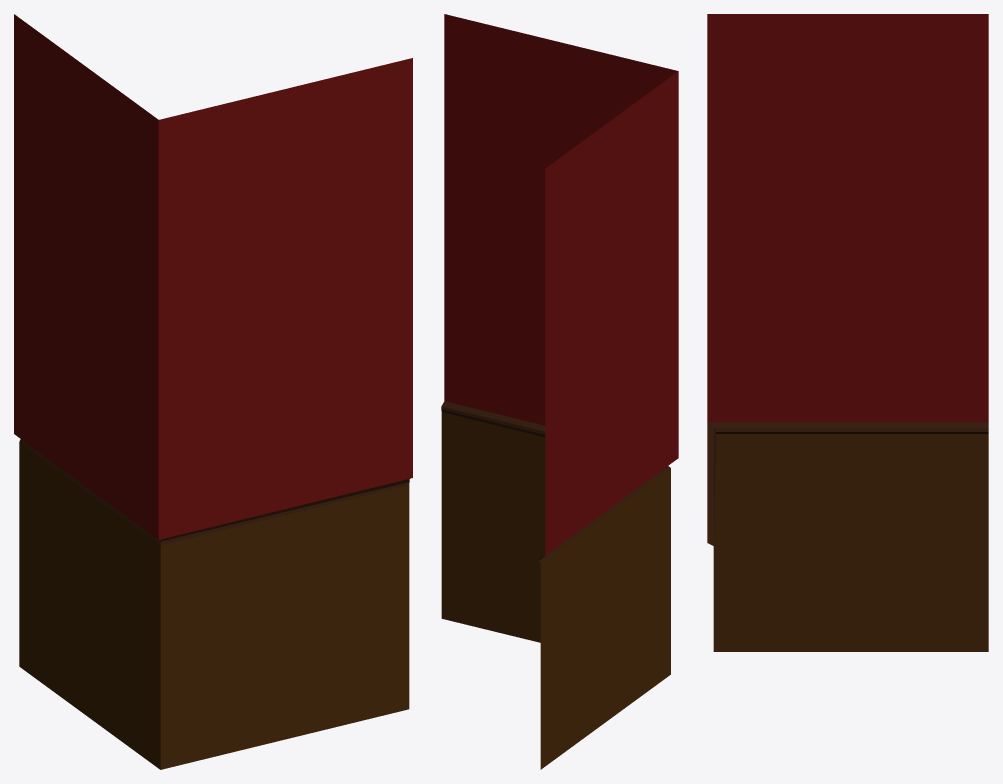
File: WallCorner.fbx
3 views of the same model, side by side, from view 1: azimuth 30°, elevation 25°; view 2: azimuth 150°, elevation 25°; view 3: azimuth 270°, elevation 25° (orthographic). The views are drawn at different scales.
Visible parts, largest first — view 1: Wall Corner; view 2: Wall Corner; view 3: Wall Corner.
Boxes of the visible parts, <box> form: Wall Corner: <box>14,14,412,769</box>; Wall Corner: <box>441,14,678,769</box>; Wall Corner: <box>707,14,988,651</box>.
Size of the model in its own units: 797 by 1959 by 786.
